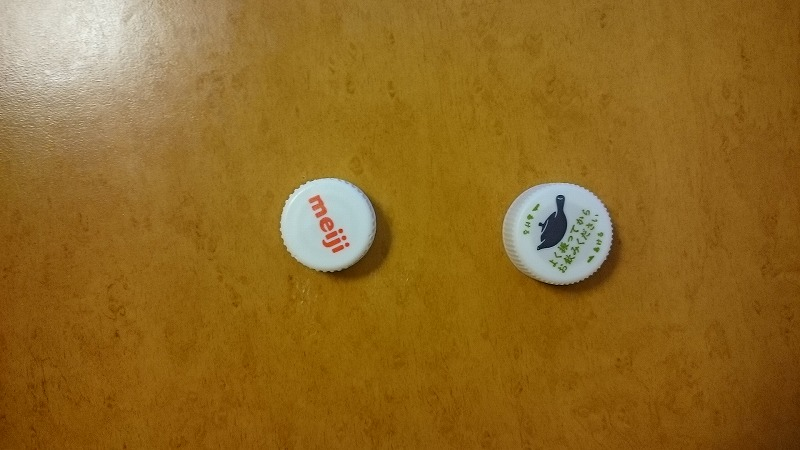A: (491, 174, 618, 290)
B: (276, 176, 383, 275)
